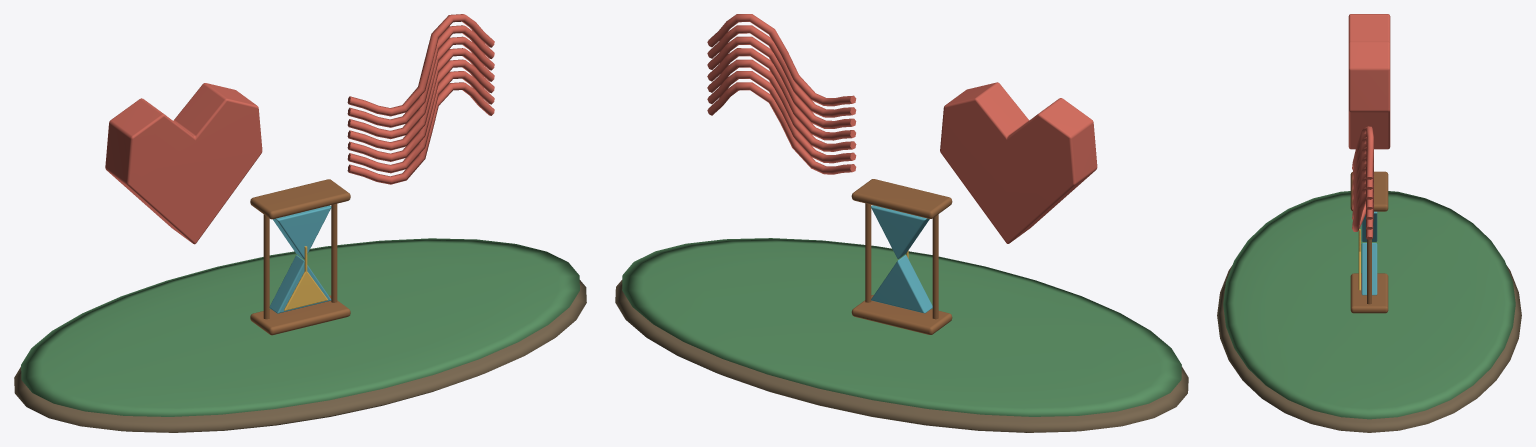
The model's file is complete-first-slow-flowing-heart.glb.
The picture shows the model from 3 angles, left to right: view 1: azimuth 30°, elevation 25°; view 2: azimuth 150°, elevation 25°; view 3: azimuth 270°, elevation 25°; orthographic projection. The views are drawn at different scales.
Parts seen in each view (by area): view 1: complete-first-slow-flowing-heart_surface_01, complete-first-slow-flowing-heart_surface_02, complete-first-slow-flowing-heart_surface_00, complete-first-slow-flowing-heart_surface_03, complete-first-slow-flowing-heart_surface_04, complete-first-slow-flowing-heart_surface_05; view 2: complete-first-slow-flowing-heart_surface_01, complete-first-slow-flowing-heart_surface_02, complete-first-slow-flowing-heart_surface_00, complete-first-slow-flowing-heart_surface_03, complete-first-slow-flowing-heart_surface_04; view 3: complete-first-slow-flowing-heart_surface_01, complete-first-slow-flowing-heart_surface_02, complete-first-slow-flowing-heart_surface_00, complete-first-slow-flowing-heart_surface_03, complete-first-slow-flowing-heart_surface_04.
Boxes of the visible parts, x1,y1,x2,y2 form: complete-first-slow-flowing-heart_surface_01: [21, 238, 579, 416]; complete-first-slow-flowing-heart_surface_02: [105, 14, 494, 244]; complete-first-slow-flowing-heart_surface_00: [14, 280, 586, 432]; complete-first-slow-flowing-heart_surface_03: [250, 179, 350, 335]; complete-first-slow-flowing-heart_surface_04: [269, 205, 331, 313]; complete-first-slow-flowing-heart_surface_05: [284, 246, 327, 310]; complete-first-slow-flowing-heart_surface_01: [622, 238, 1181, 416]; complete-first-slow-flowing-heart_surface_02: [707, 14, 1097, 243]; complete-first-slow-flowing-heart_surface_00: [615, 280, 1188, 432]; complete-first-slow-flowing-heart_surface_03: [851, 179, 952, 334]; complete-first-slow-flowing-heart_surface_04: [871, 205, 932, 313]; complete-first-slow-flowing-heart_surface_01: [1223, 191, 1515, 419]; complete-first-slow-flowing-heart_surface_02: [1348, 14, 1390, 239]; complete-first-slow-flowing-heart_surface_00: [1217, 265, 1521, 432]; complete-first-slow-flowing-heart_surface_03: [1350, 171, 1388, 313]; complete-first-slow-flowing-heart_surface_04: [1361, 211, 1377, 295].
Bounding box in the file's own units: 4.56 × 2.42 × 2.5.
